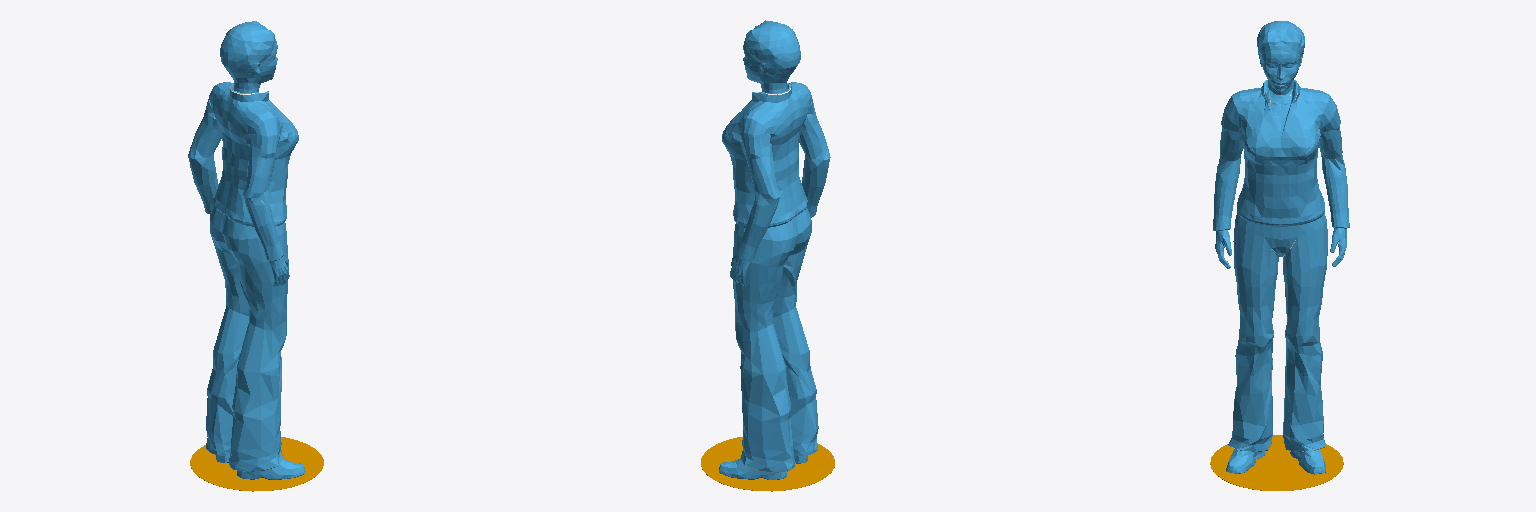
URDF robot description (woman_pink_blouse):
<?xml version="1.0" ?>
<robot name="woman_pink_blouse" xmlns:xacro="http://www.ros.org/wiki/xacro">
  <!-- standing young woman, pink shirt, blue trousers -->

  <link name="woman_pink_blouse/base_footprint">
    <inertial>
      <mass value="65" />
      <origin xyz="0 0 0.0" rpy="0 0 0" />
      <inertia ixx="1" ixy="0" ixz="0" iyy="1" iyz="0" izz="1" />
    </inertial>
    <collision>
      <origin xyz="0 0 0" rpy="0 0 0" />
      <geometry>
        <cylinder length="0.001" radius="0.35" />
      </geometry>
    </collision>
    <visual>
      <origin xyz="0 0 0" rpy="0 0 0" />
      <geometry>
        <cylinder length="0.001" radius="0.25" />
      </geometry>
    </visual>
  </link>

  <joint name="woman_pink_blouse/base_link_joint" type="fixed">
    <origin xyz="0 0 0.9" rpy="0 0 0" />
    <parent link="woman_pink_blouse/base_footprint"/>
    <child link="woman_pink_blouse/base_link" />
  </joint>

  <link name="woman_pink_blouse/base_link">
    <inertial>
      <mass value="1" />
      <origin xyz="0 0 -0.9" rpy="0 0 0" />
      <inertia ixx="1" ixy="0" ixz="0" iyy="1" iyz="0" izz="1" />
    </inertial>
    <collision>
      <!-- approximate cylinder to speed up collision checking
      <origin xyz="0 0 0" rpy="0 0 0" />
      <geometry>
        <cylinder length="1.80" radius="0.25" />
      </geometry>
      -->
      <origin xyz="0.1 -0.25 -0.9" rpy="0 0 1.5707" />
      <geometry>
        <mesh filename="package://tiago_bartender_world/meshes/woman_standing.dae" scale="0.42 0.42 0.42"/> 
      </geometry>
    </collision>
    <visual>
      <origin xyz="0.1 -0.25 -0.9" rpy="0 0 1.5707" />
      <geometry>
        <mesh filename="package://tiago_bartender_world/meshes/woman_standing.dae" scale="0.42 0.42 0.42"/> 
      </geometry>
    </visual>
  </link>

</robot>

--- Render facts (derived) ---
The picture shows the robot from 3 angles, left to right: view 1: azimuth 30°, elevation 25°; view 2: azimuth 150°, elevation 25°; view 3: azimuth 270°, elevation 25°; orthographic projection.
Model woman_pink_blouse with 2 links and 1 joints (1 fixed), rooted at woman_pink_blouse/base_footprint, posed every joint at zero.
Links seen in each view (by area): view 1: woman_pink_blouse/base_link, woman_pink_blouse/base_footprint; view 2: woman_pink_blouse/base_link, woman_pink_blouse/base_footprint; view 3: woman_pink_blouse/base_link, woman_pink_blouse/base_footprint.
Link boxes in pixels (x1,y1,x2,y2): woman_pink_blouse/base_link: (188, 21, 305, 479); woman_pink_blouse/base_footprint: (190, 437, 323, 491); woman_pink_blouse/base_link: (719, 20, 830, 479); woman_pink_blouse/base_footprint: (701, 437, 834, 491); woman_pink_blouse/base_link: (1213, 21, 1349, 474); woman_pink_blouse/base_footprint: (1210, 435, 1343, 490).
Bounding box of the posed robot: 0.5 × 0.5224 × 1.8 m (x, y, z).
1 mesh visuals loaded from 1 distinct referenced files (1 Collada DAE).
